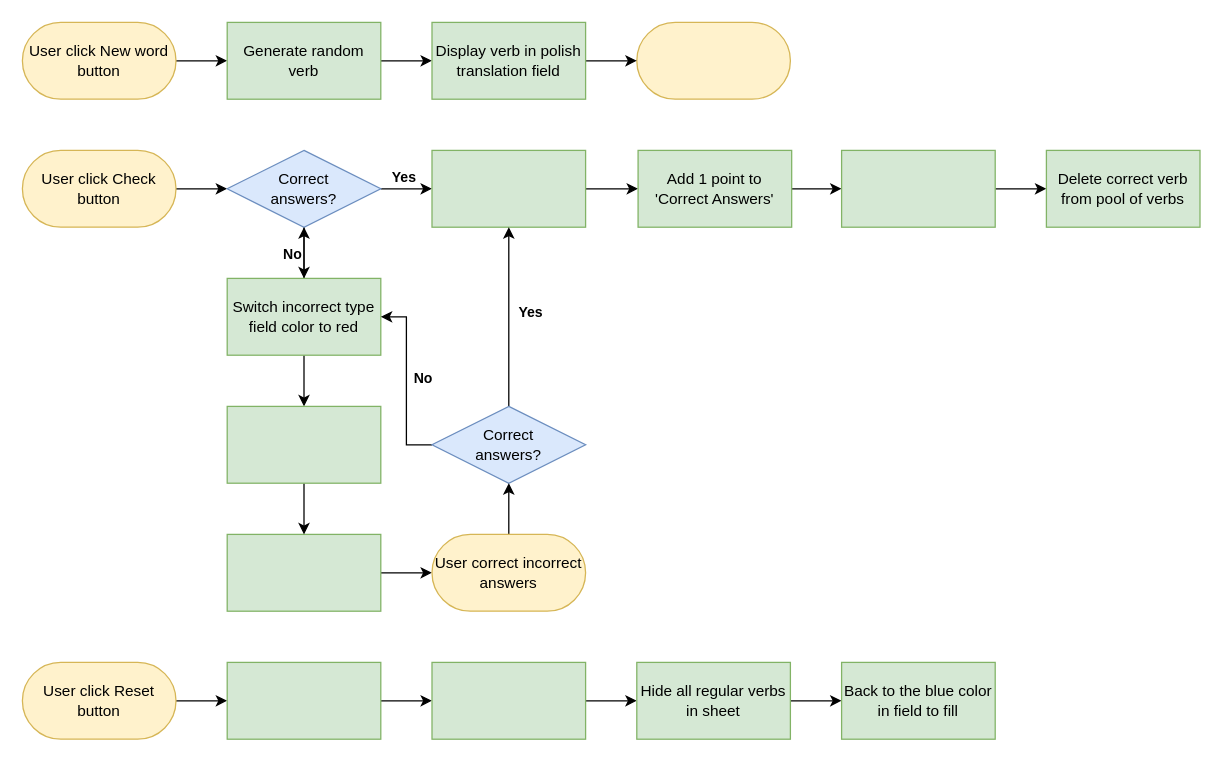
This 1222x762 diagram has some shape labels left out. Here are the shapes that lost their labels. From the top down, the centre of each, then its label:
At point (713, 60): "User types answers in fields".
At point (508, 188): "Switch type fields color to green".
At point (917, 188): "Show correct verb on sheet".
At point (303, 444): "Switch correct type field color to green (if there are any correct answers)".
At point (303, 572): "Add 1 point to 'Wrong answers'".
At point (303, 700): "Claer translation field".
At point (508, 700): "Reset correct and wrong answers score".
